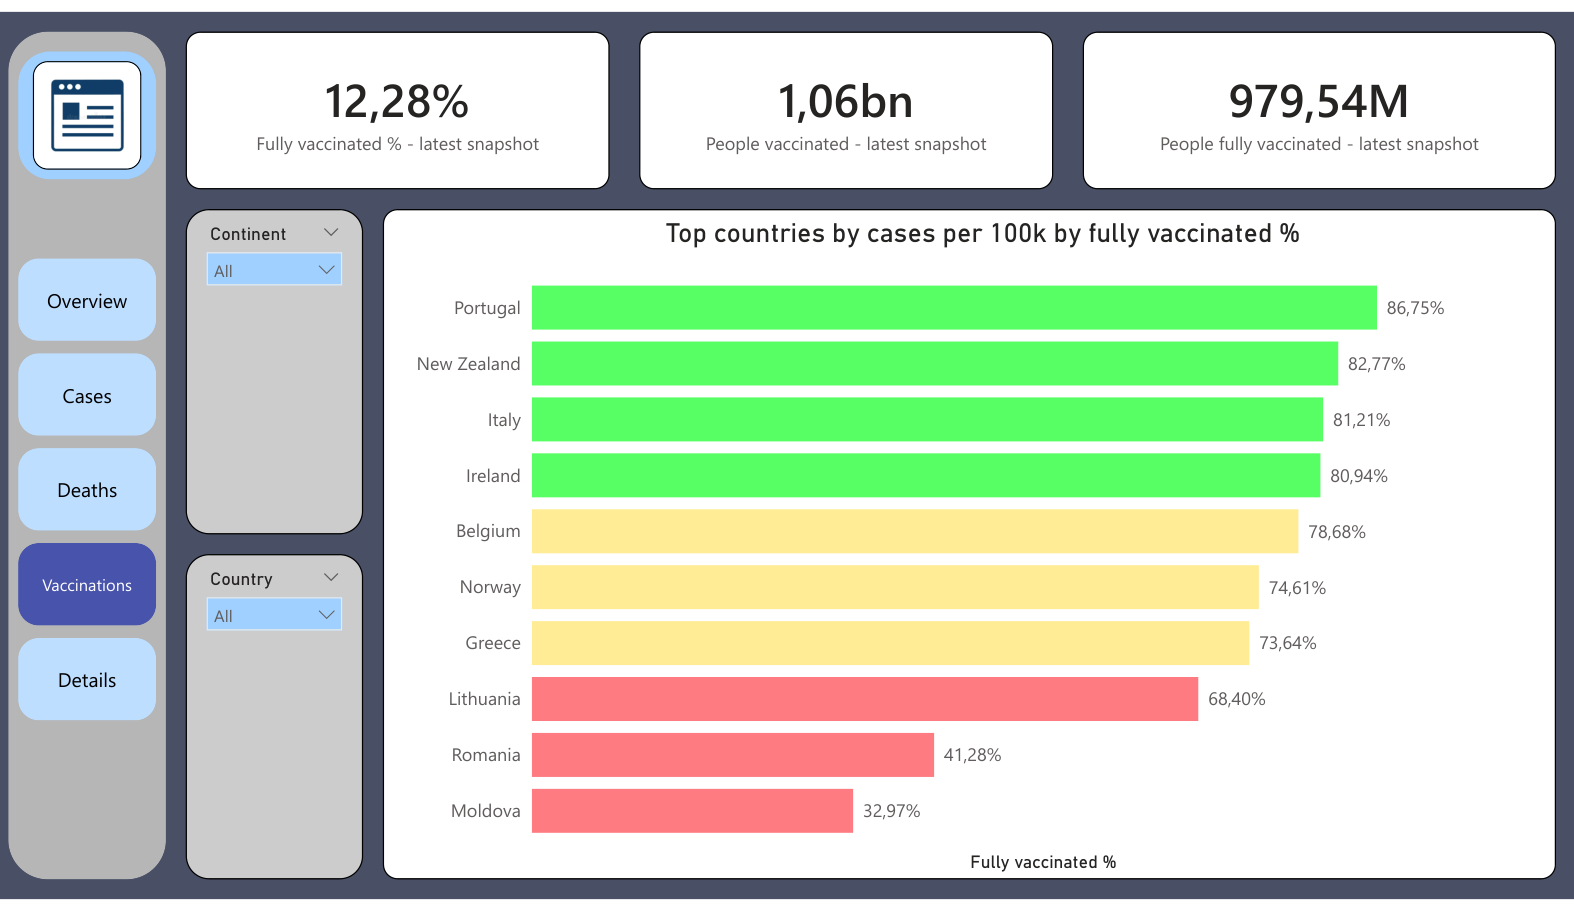

Layout of this report page (visuals, bound fields, positions):
{"tool":"powerbi","page":{"name":"Vaccinations","canvas":[1280,720],"ordinal":3},"visuals":[{"type":"shape","box":[8,16,128,688],"z":0},{"type":"pageNavigator","box":[16,200,112,376],"z":1000},{"type":"slicer","fields":{"Values":["covid_final.location"]},"box":[152,440,144,264],"z":2000},{"type":"slicer","fields":{"Values":["covid_final.continent"]},"box":[152,160,144,264],"z":3000},{"type":"shape","box":[16,32,112,104],"z":4000},{"type":"image","box":[28,39.6,88,88],"z":5000},{"type":"cardVisual","fields":{"Data":["covid_final.Fully vaccinated % - latest"]},"box":[152,16,344,128],"z":6000},{"type":"cardVisual","fields":{"Data":["covid_final.People vaccinated - latest"]},"box":[520,16,336,128],"z":7000},{"type":"cardVisual","fields":{"Data":["covid_final.People fully vaccinated - latest"]},"box":[880,16,384,128],"z":8000},{"type":"clusteredBarChart","title":"Top countries by cases per 100k by fully vaccinated %","fields":{"Category":["covid_final.location"],"Y":["covid_final.Fully vaccinated % (Country, Latest snapshot)"]},"box":[312,160,952,544],"z":9000}]}

Visuals, with their boxes on the page's 1280x720 design canvas (x1, y1, x2, y2). These are canvas units, not pixel positions in the 1574x907 screenshot, which may show the page scaled, cropped or inside an application window:
shape: [left=8, top=16, right=136, bottom=704]
pageNavigator: [left=16, top=200, right=128, bottom=576]
slicer - covid_final.location: [left=152, top=440, right=296, bottom=704]
slicer - covid_final.continent: [left=152, top=160, right=296, bottom=424]
shape: [left=16, top=32, right=128, bottom=136]
image: [left=28, top=40, right=116, bottom=128]
cardVisual - covid_final.Fully vaccinated % - latest: [left=152, top=16, right=496, bottom=144]
cardVisual - covid_final.People vaccinated - latest: [left=520, top=16, right=856, bottom=144]
cardVisual - covid_final.People fully vaccinated - latest: [left=880, top=16, right=1264, bottom=144]
"Top countries by cases per 100k by fully vaccinated %" clusteredBarChart: [left=312, top=160, right=1264, bottom=704]
